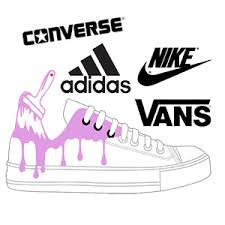adidas: (59, 42, 131, 94)
nike: (138, 58, 211, 87)
vans: (135, 99, 212, 127)
